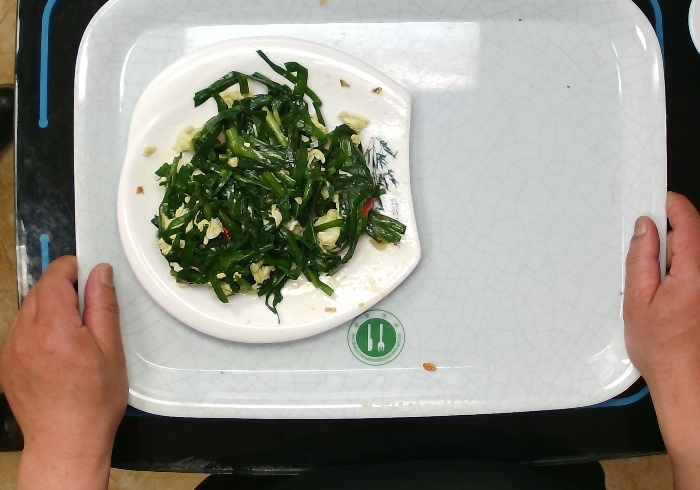JYsf-Mian_Pan: (112, 29, 427, 345)
